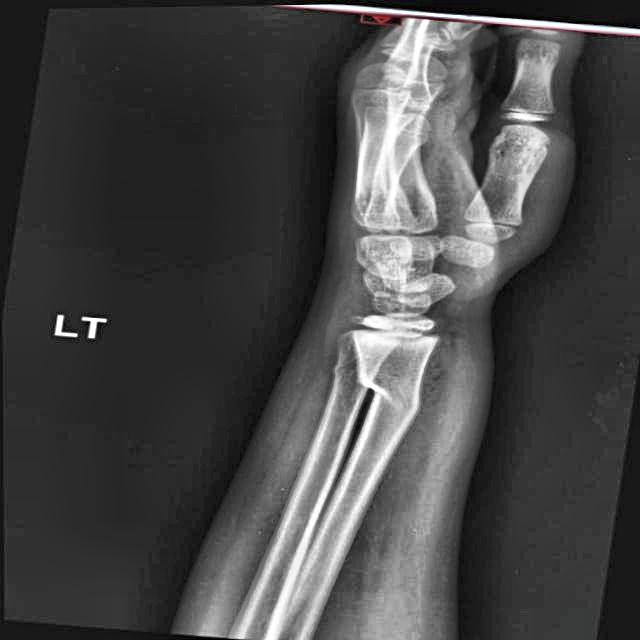Greenstick: (346, 362, 411, 414)
